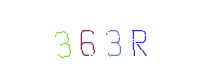3: (24, 0, 104, 80), (65, 0, 145, 80)
6: (46, 0, 126, 80)
R: (88, 0, 168, 80)
